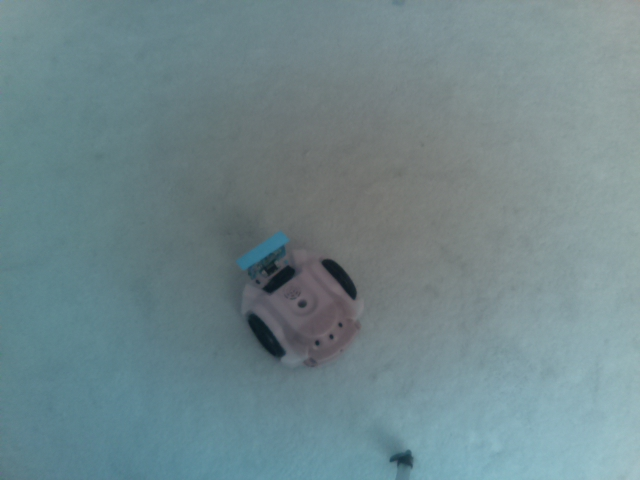board: (231, 229, 294, 276)
chassis: (239, 231, 365, 369)
